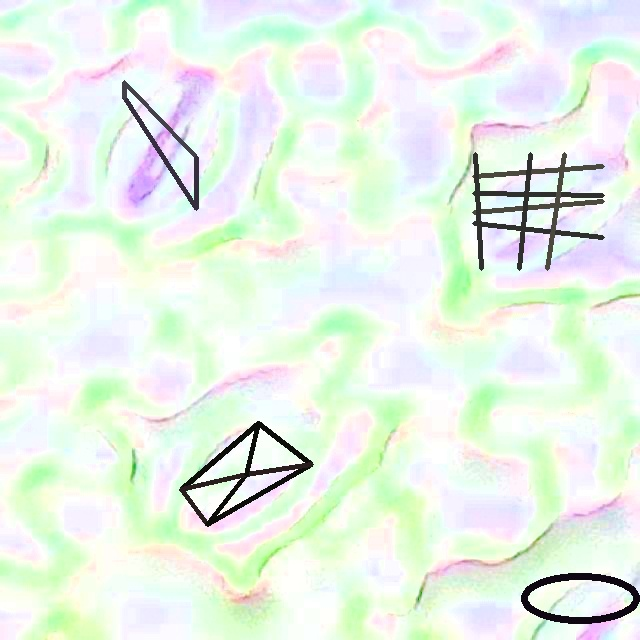open: (473, 152, 604, 269), (179, 421, 313, 526), (123, 80, 197, 210), (521, 572, 639, 625)
